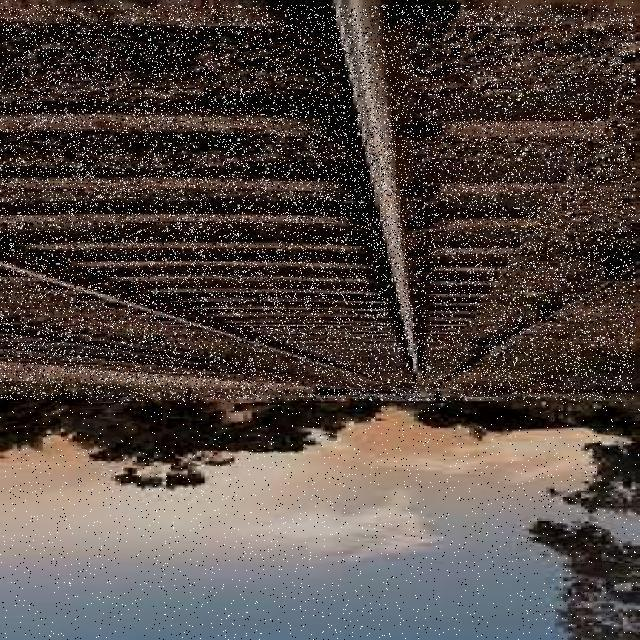rail: (1, 5, 634, 400)
